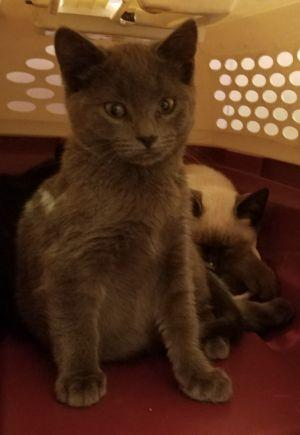rblue: (42, 11, 218, 191)
